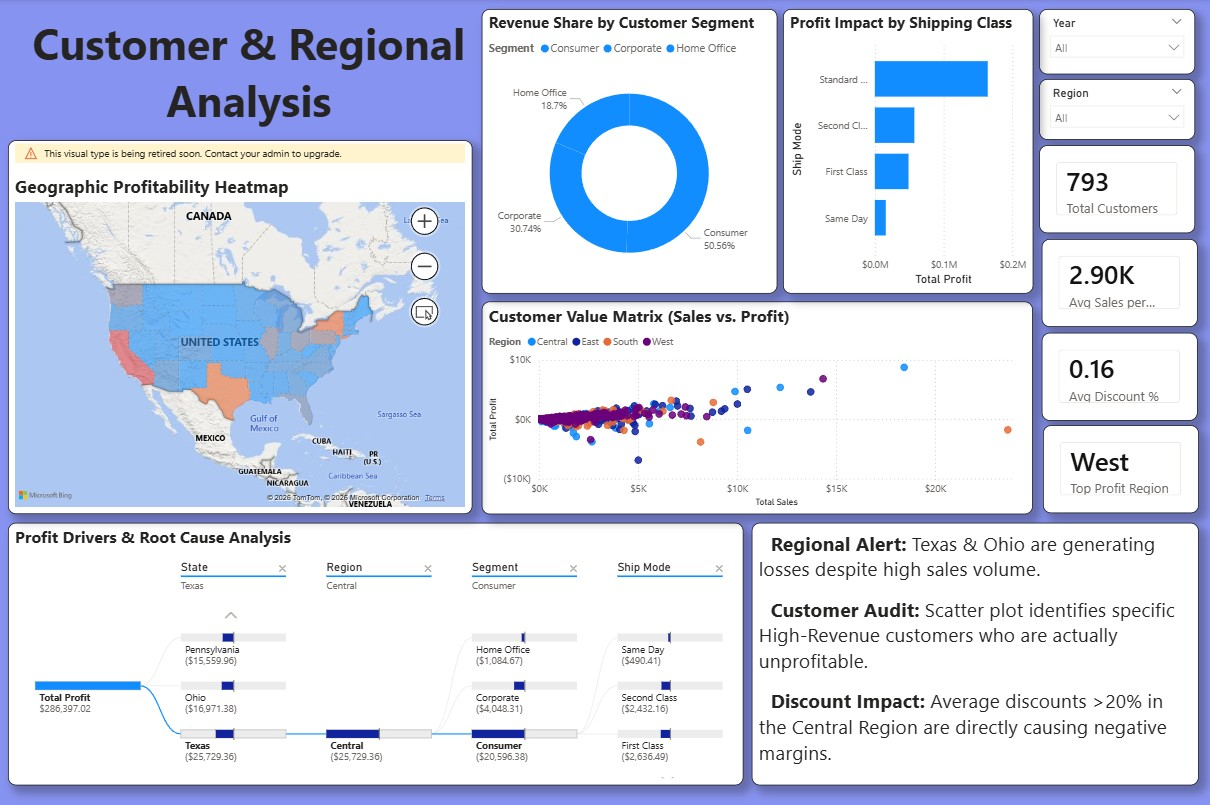

Layout of this report page (visuals, bound fields, positions):
{"tool":"powerbi","page":{"name":"Customer & Regional Insights","canvas":[1500,1000],"ordinal":1},"visuals":[{"type":"textbox","box":[0,11.7,628.4,150.8],"z":0},{"type":"slicer","fields":{"Values":["DateTable.Year"]},"box":[1288.5,11.7,192.7,80.4],"z":1000},{"type":"slicer","fields":{"Values":["Orders.Region"]},"box":[1288.5,98.9,192.7,75.4],"z":2000},{"type":"decompositionTreeVisual","title":"Profit Drivers & Root Cause Analysis","fields":{"Analyze":["Key Measures.Total Profit"],"ExplainBy":["Orders.State","Orders.Region","Orders.Segment","Orders.Ship Mode"]},"box":[11.7,648.5,909.9,325.1],"z":3000},{"type":"scatterChart","title":"Customer Value Matrix (Sales vs. Profit)","fields":{"X":["Key Measures.Total Sales"],"Y":["Key Measures.Total Profit"],"Category":["Orders.Customer Name"],"Series":["Orders.Region"]},"box":[598.2,373.7,682,263.1],"z":4000},{"type":"filledMap","title":"Geographic Profitability Heatmap","fields":{"Category":["Orders.State"]},"box":[11.7,174.3,574.7,462.5],"z":5000},{"type":"donutChart","title":"Revenue Share by Customer Segment","fields":{"Category":["Orders.Segment"],"Y":["Key Measures.Total Sales"]},"box":[598.2,11.7,365.3,351.9],"z":6000},{"type":"clusteredBarChart","title":"Profit Impact by Shipping Class","fields":{"Category":["Orders.Ship Mode"],"Y":["Key Measures.Total Profit"]},"box":[970.2,11.7,310,351.9],"z":7000},{"type":"cardVisual","fields":{"Data":["Key Measures.Total Customers"]},"box":[1288.5,181,192.7,108.9],"z":8000},{"type":"cardVisual","fields":{"Data":["Key Measures.Avg Sales per Customer"]},"box":[1290.2,296.6,192.7,108.9],"z":8001},{"type":"cardVisual","fields":{"Data":["Key Measures.Avg Discount %"]},"box":[1290.2,412.2,192.7,108.9],"z":8002},{"type":"cardVisual","fields":{"Data":["Key Measures.Top Profit Region"]},"box":[1291.9,527.8,192.7,108.9],"z":8003},{"type":"textbox","box":[931.6,648.5,553,325.1],"z":8004}]}

Visuals, with their boxes in screenshot pixels (x1, y1, x2, y2), scaled from the page's 1500x1000 canvas onto the 1210x805 screenshot:
textbox: pyautogui.locateOnScreen(0, 9, 507, 131)
slicer - DateTable.Year: pyautogui.locateOnScreen(1039, 9, 1195, 74)
slicer - Orders.Region: pyautogui.locateOnScreen(1039, 80, 1195, 140)
"Profit Drivers & Root Cause Analysis" decompositionTreeVisual: pyautogui.locateOnScreen(9, 522, 743, 784)
"Customer Value Matrix (Sales vs. Profit)" scatterChart: pyautogui.locateOnScreen(483, 301, 1033, 513)
"Geographic Profitability Heatmap" filledMap: pyautogui.locateOnScreen(9, 140, 473, 513)
"Revenue Share by Customer Segment" donutChart: pyautogui.locateOnScreen(483, 9, 777, 293)
"Profit Impact by Shipping Class" clusteredBarChart: pyautogui.locateOnScreen(783, 9, 1033, 293)
cardVisual - Key Measures.Total Customers: pyautogui.locateOnScreen(1039, 146, 1195, 233)
cardVisual - Key Measures.Avg Sales per Customer: pyautogui.locateOnScreen(1041, 239, 1196, 326)
cardVisual - Key Measures.Avg Discount %: pyautogui.locateOnScreen(1041, 332, 1196, 419)
cardVisual - Key Measures.Top Profit Region: pyautogui.locateOnScreen(1042, 425, 1198, 513)
textbox: pyautogui.locateOnScreen(751, 522, 1198, 784)
